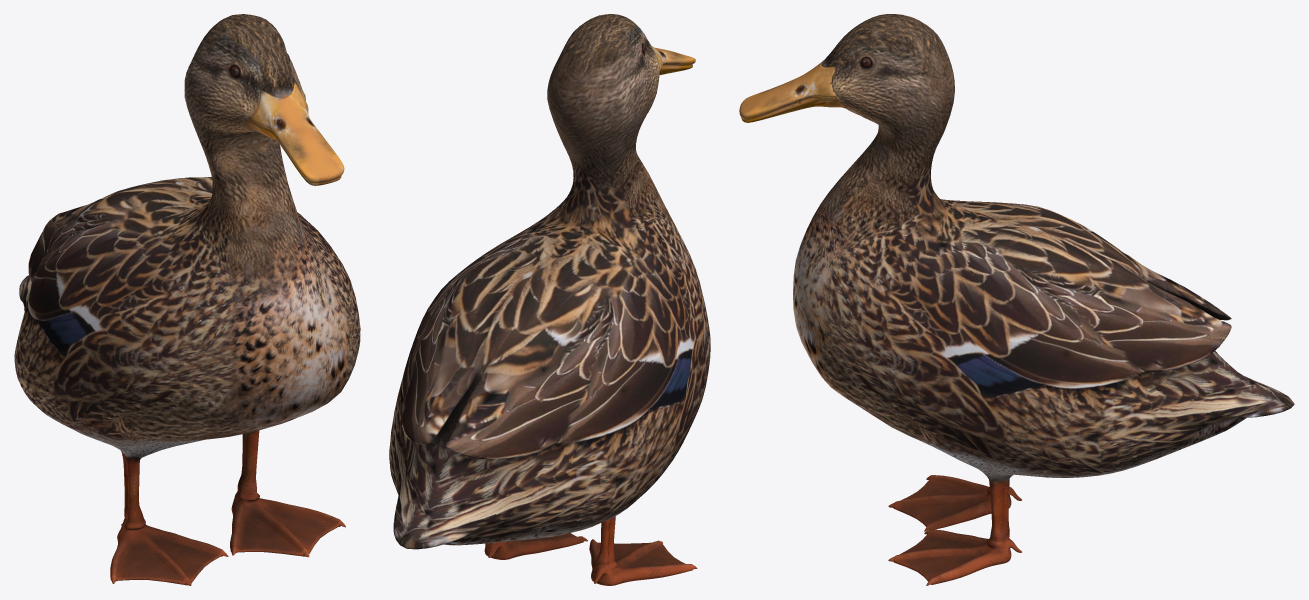
File: duck.gltf
The picture shows the model from 3 angles, left to right: view 1: azimuth 30°, elevation 25°; view 2: azimuth 150°, elevation 25°; view 3: azimuth 270°, elevation 25°; orthographic projection. The views are drawn at different scales.
Parts seen in each view (by area): view 1: 12249_Bird_v1_L2; view 2: 12249_Bird_v1_L2; view 3: 12249_Bird_v1_L2.
Part boxes in pixels (x1,y1,x2,y2): 12249_Bird_v1_L2: [14, 14, 360, 585]; 12249_Bird_v1_L2: [389, 14, 710, 585]; 12249_Bird_v1_L2: [739, 14, 1294, 585].
Bounding box in the file's own units: 28.07 × 54.76 × 53.24.
Materials: 1 (1 with a texture image).
